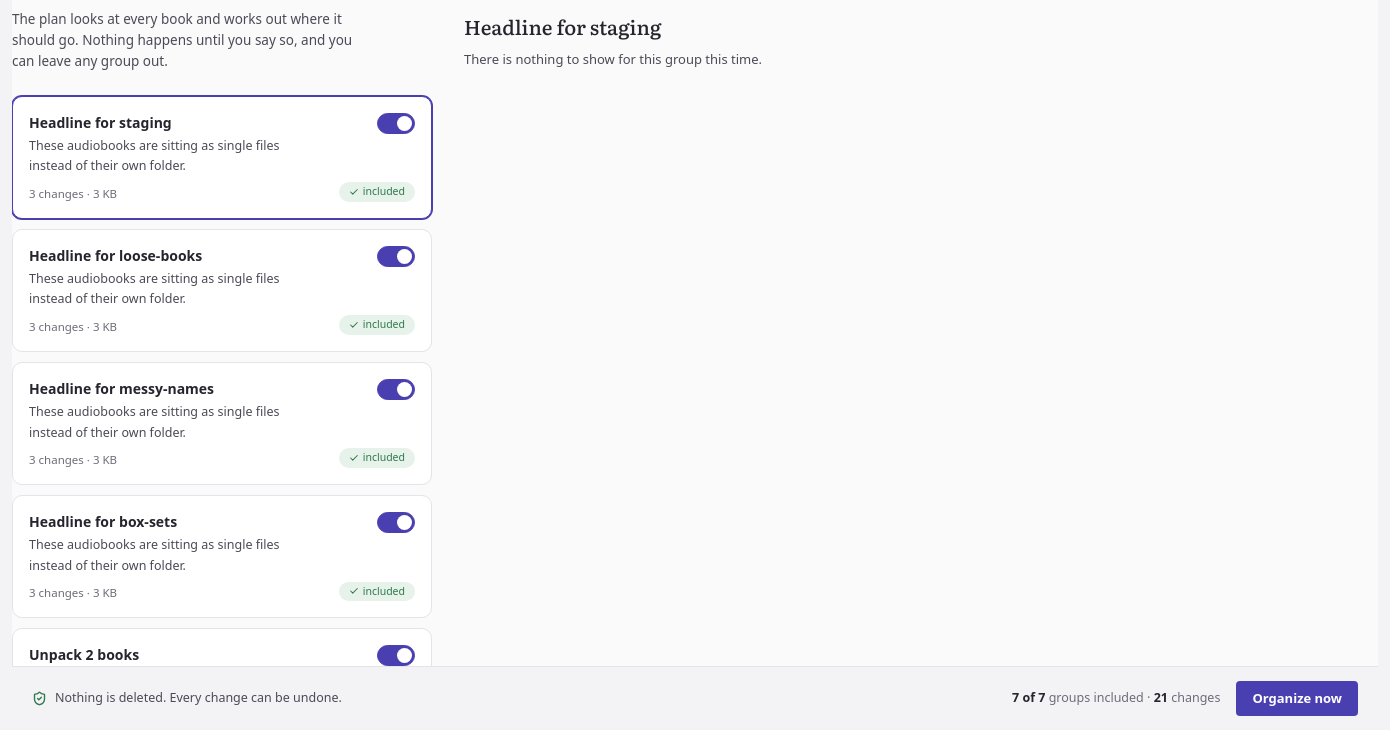
Test: Review › selecting a card shows that group's operations in the detail pane
Click the heading "Unpack 2 books".
click(84, 655)  # box top-left (29, 645), bottom-right (139, 664)
(page scrolled)
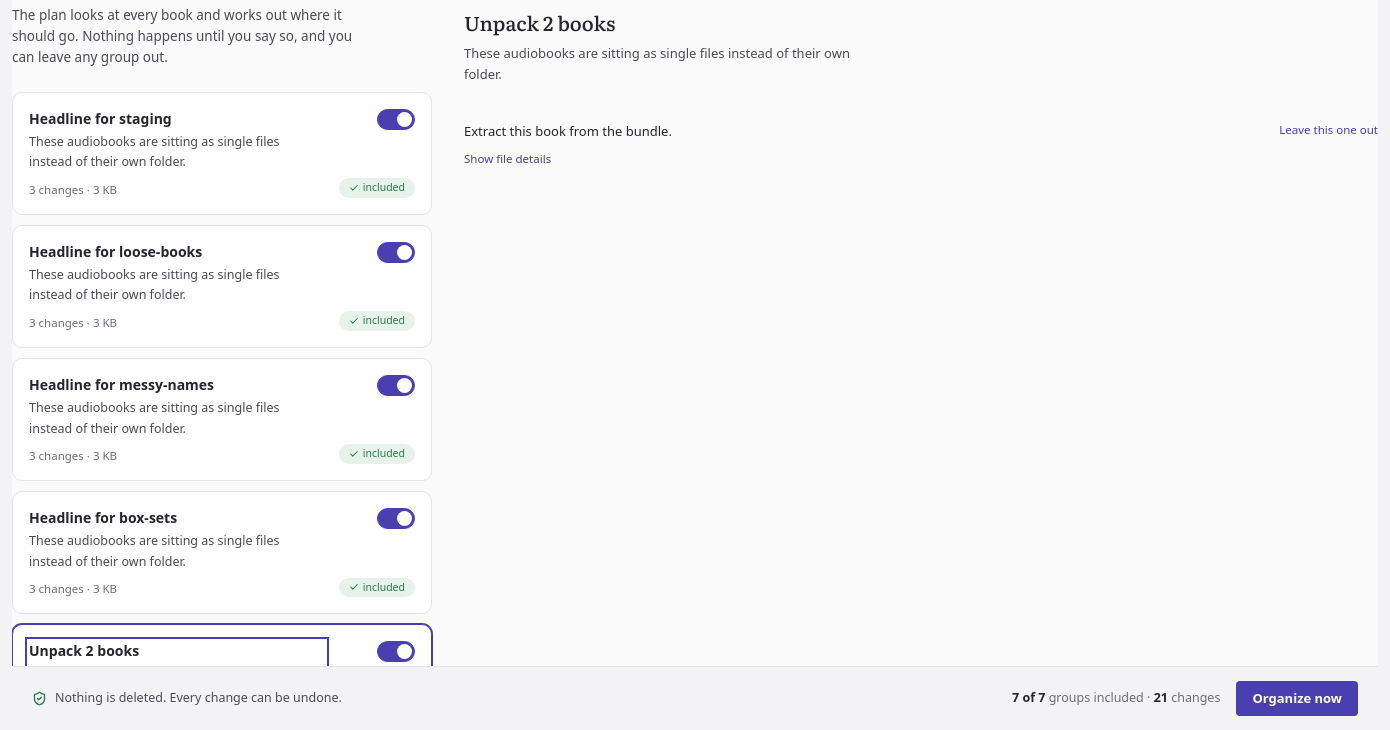
Now the text "Extract this book from the bundle." is shown, box top-left (464, 121), bottom-right (672, 142)
